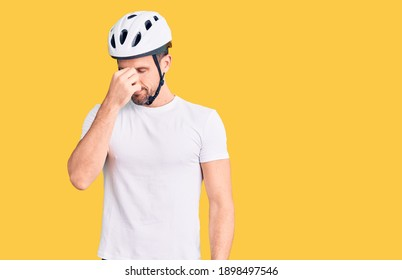helmet: (108, 11, 173, 105)
